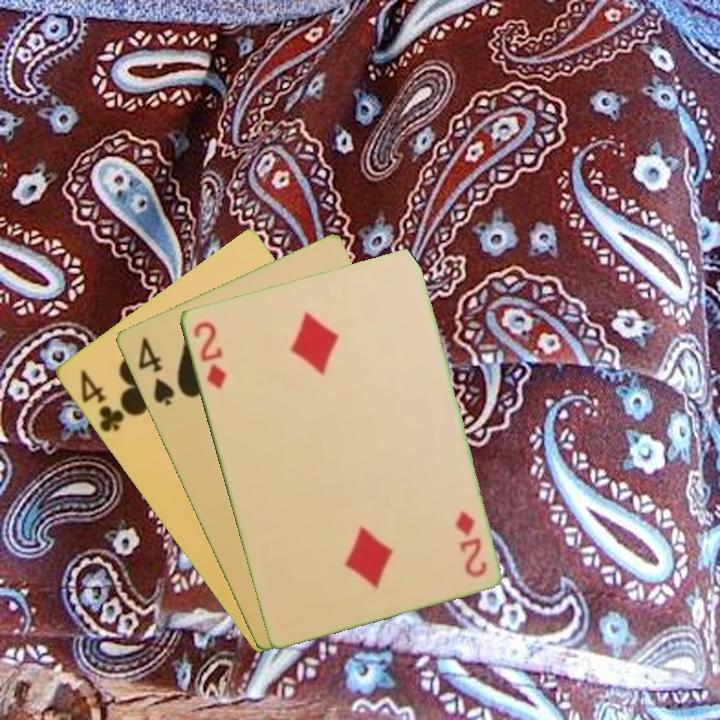2d: (189, 317, 229, 392), (452, 507, 489, 580)
4c: (76, 366, 127, 435)
4s: (134, 332, 177, 409)
